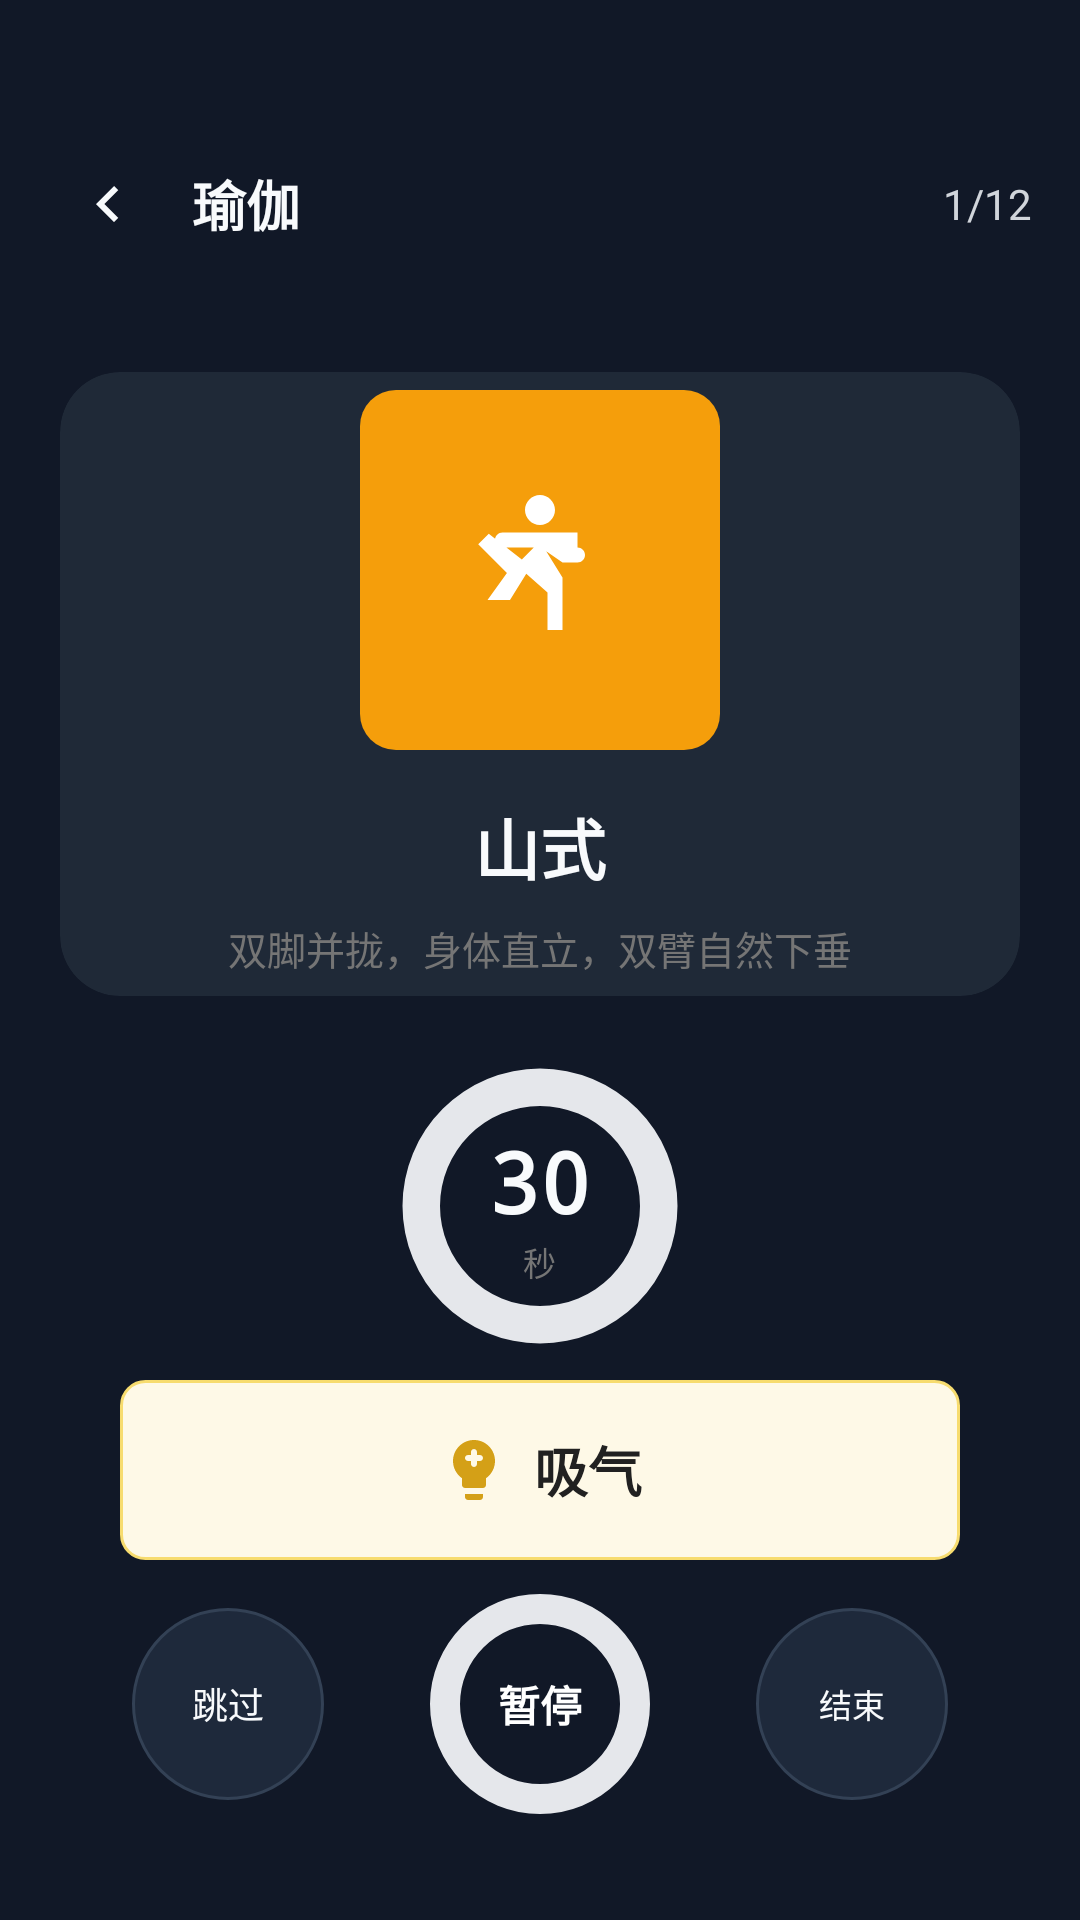

Where to tap for icons on this 1080px×1920px app screen, as point (x, y):
体式: point (540, 570)
